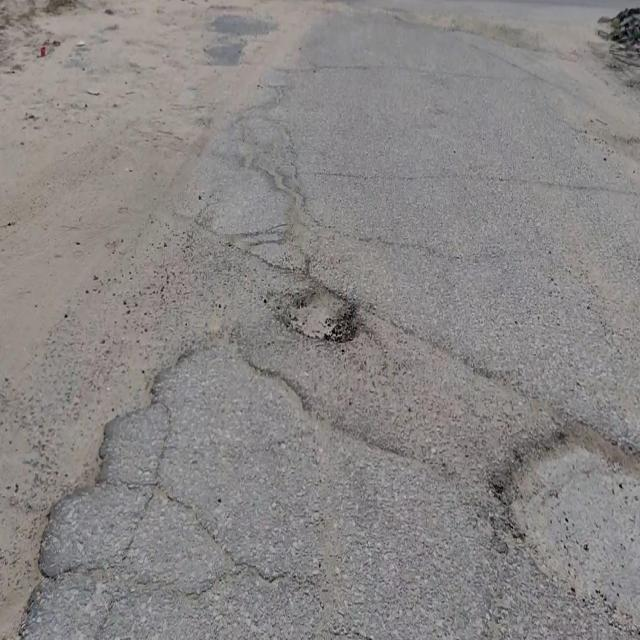Potholes: (0, 339, 181, 640), (491, 410, 640, 640), (275, 279, 359, 345)
